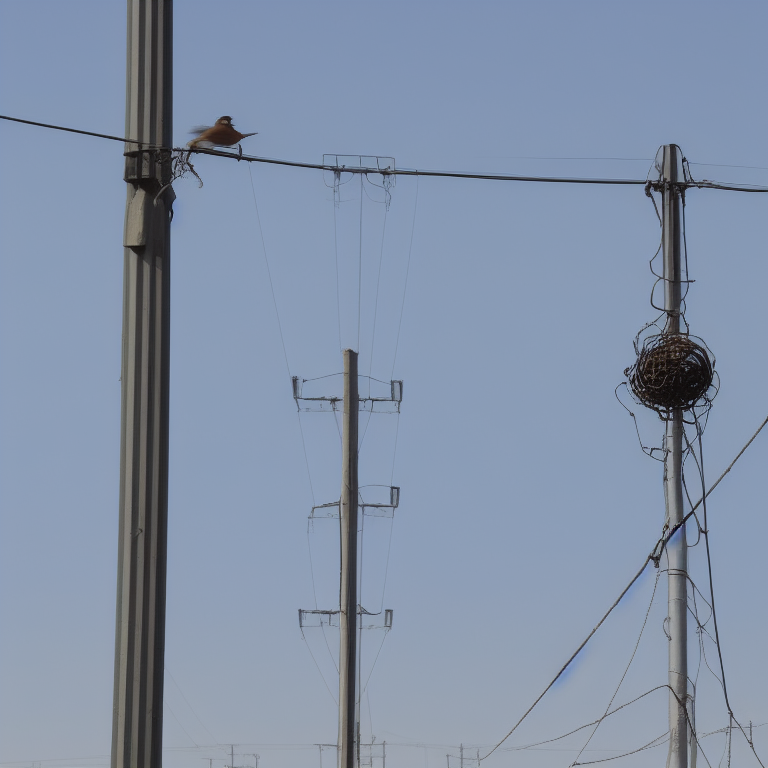nest: (631, 337, 713, 409)
